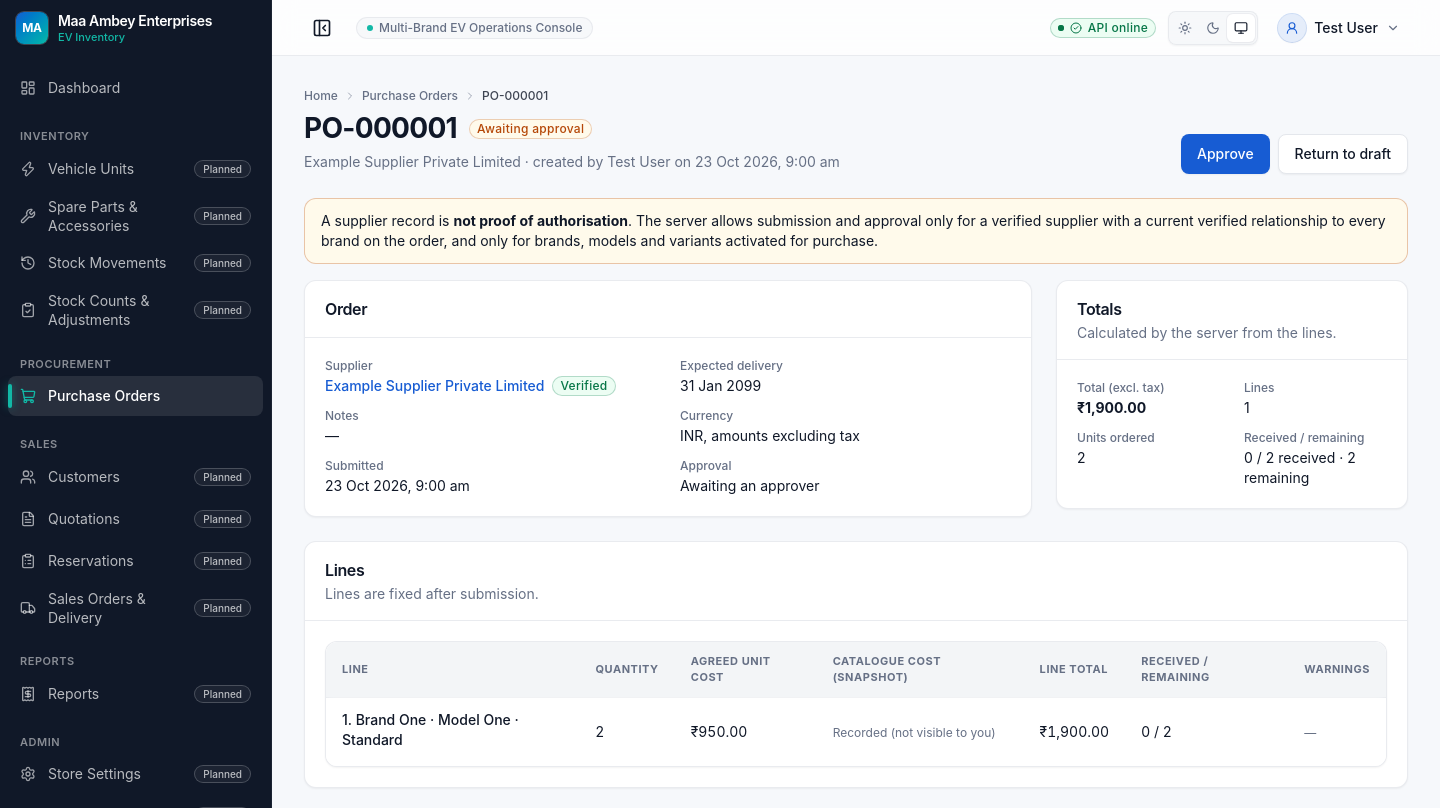
it: purchase order detail › explains self-approval and stale versions without pretending success
The image size is (1440, 808).
Click the button "Approve" at point(1225, 154), box [1181,134,1270,174]
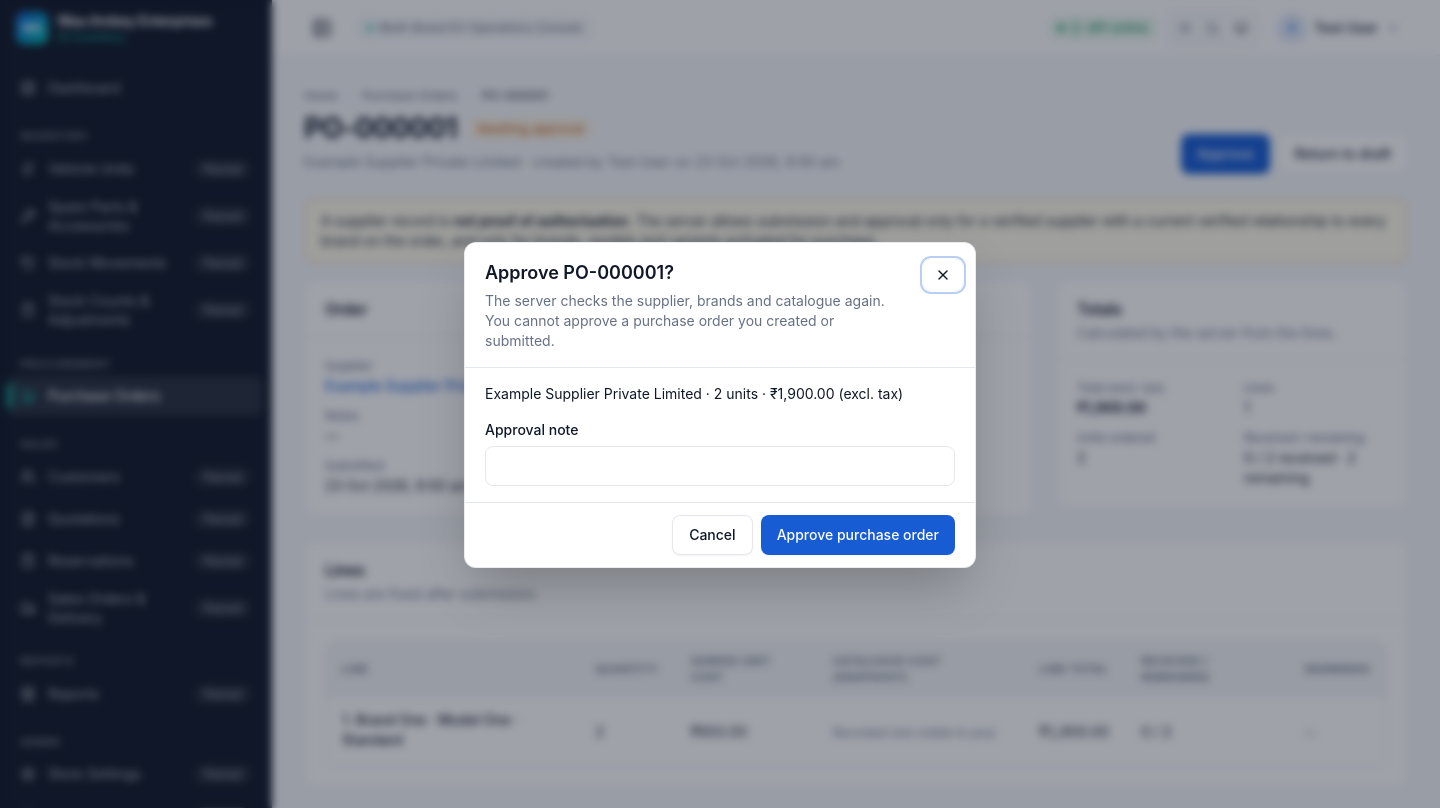
Click the button "Approve purchase order" at point(858, 535), box [761,515,955,555]
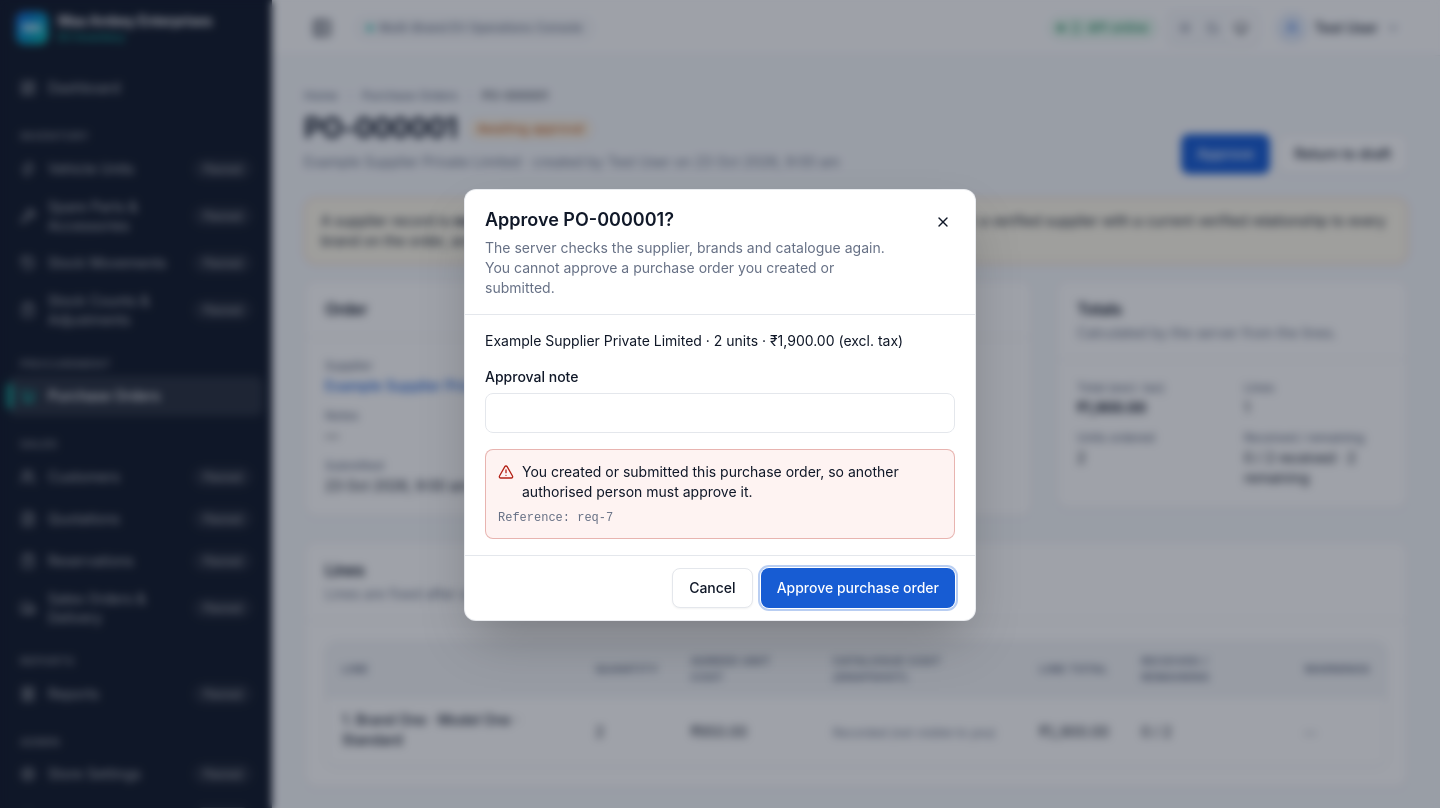
Result: the text "another authorised person must approve" is shown at [522,463,899,500]
Click the button "Approve purchase order" at point(858, 588), box [761,568,955,608]
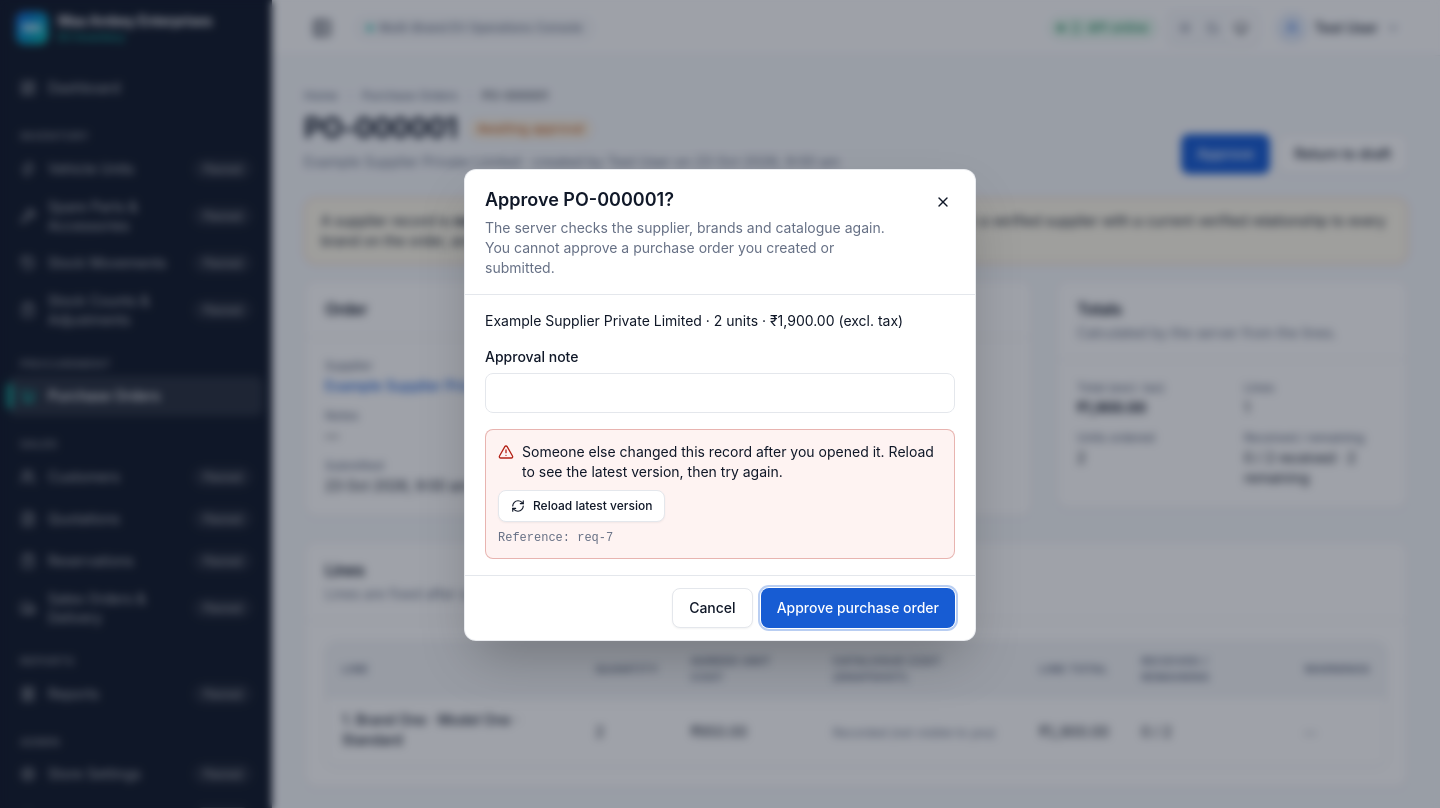
Expected: the text "Awaiting approval" is shown, [477,121,584,137]
Result: the button "Reload latest version" is shown at [498,490,665,522]
